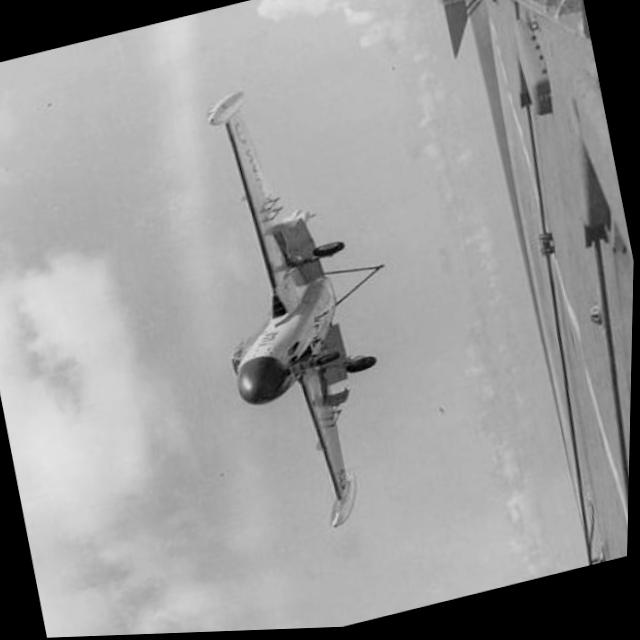aeroplane: (172, 61, 441, 550)
